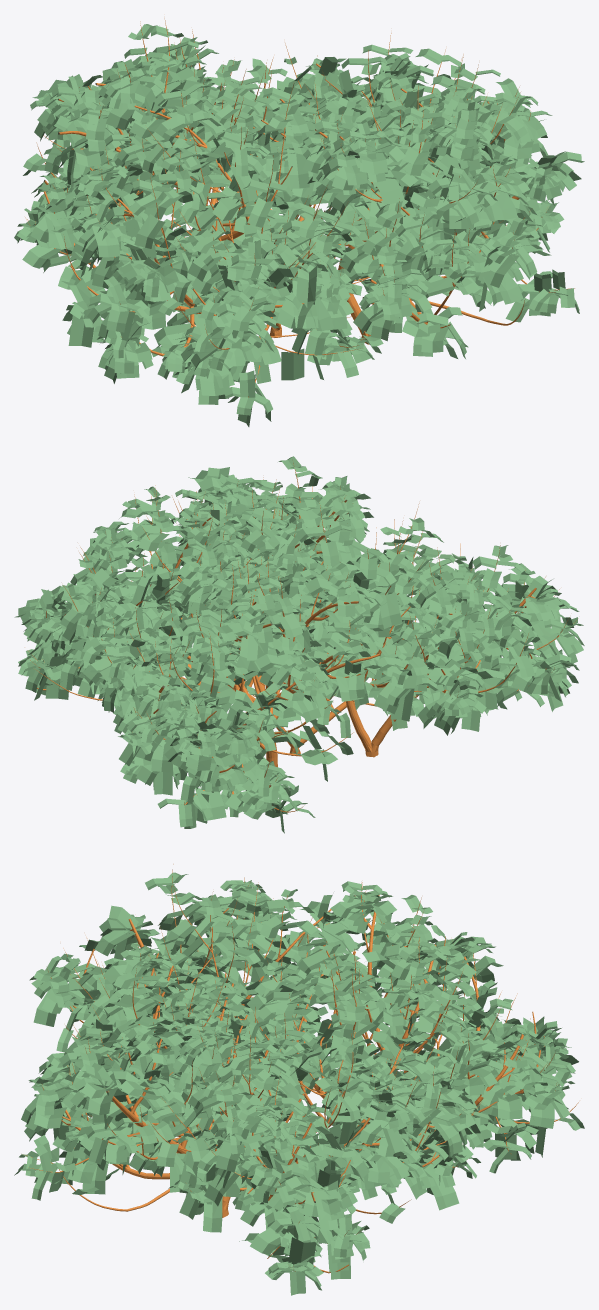
The model's file is Bush 3.obj.
3 views of the same model, one above another, from view 1: azimuth 30°, elevation 25°; view 2: azimuth 150°, elevation 25°; view 3: azimuth 270°, elevation 25° (orthographic). The views are drawn at different scales.
Visible parts, largest first — view 1: 6_Leaves_2_COLOR_COLOR; view 2: 6_Leaves_2_COLOR_COLOR; view 3: 6_Leaves_2_COLOR_COLOR.
Part boxes in pixels (x1,y1,x2,y2): 6_Leaves_2_COLOR_COLOR: (14, 18, 584, 426); 6_Leaves_2_COLOR_COLOR: (14, 456, 584, 833); 6_Leaves_2_COLOR_COLOR: (14, 864, 584, 1295).
Bounding box in the file's own units: 6829 × 3220 × 6343.
